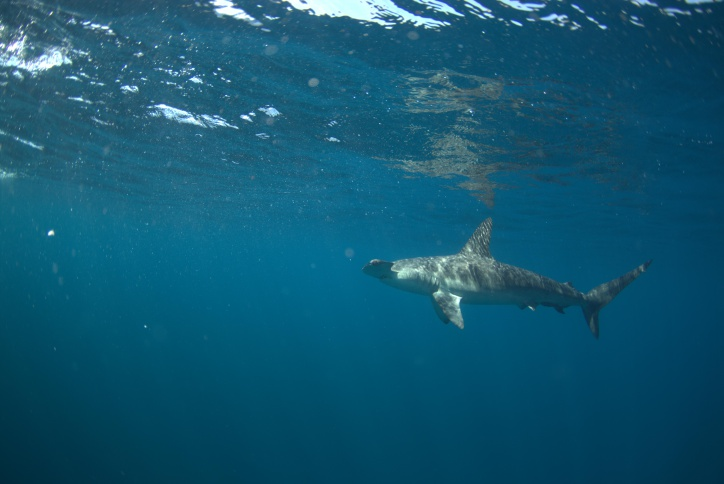Hammer: (89, 200, 403, 365), (347, 213, 659, 345)
